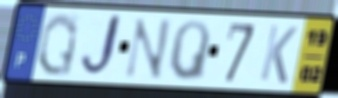7: (222, 21, 258, 84)
J: (77, 12, 125, 81)
K: (257, 23, 300, 87)
N: (122, 17, 174, 82)
Q: (35, 11, 81, 78), (167, 18, 213, 84)
